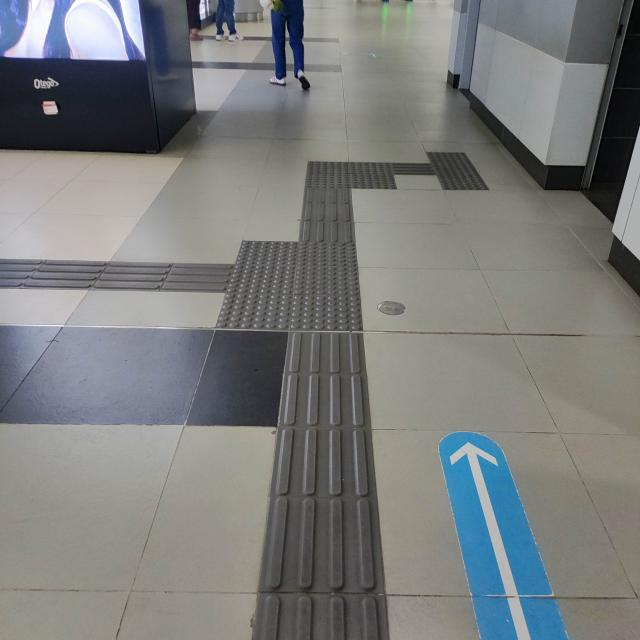kanan: (282, 150, 422, 203)
